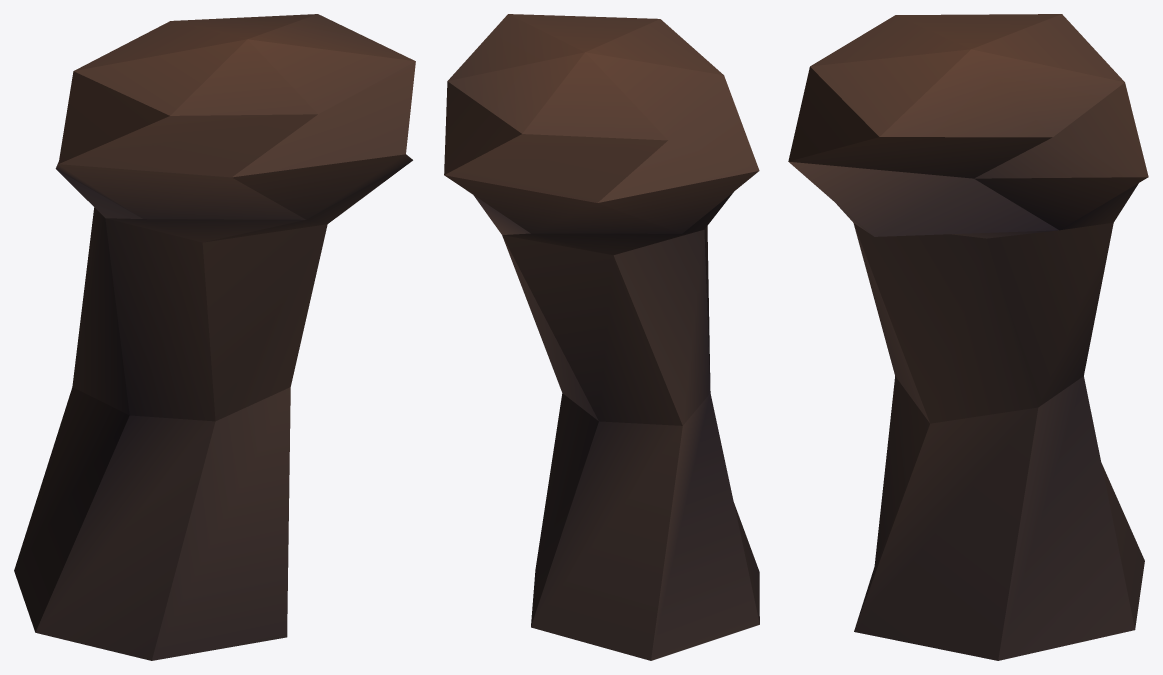
File: eroded.lod2.glb
The picture shows the model from 3 angles, left to right: view 1: azimuth 30°, elevation 25°; view 2: azimuth 150°, elevation 25°; view 3: azimuth 270°, elevation 25°; orthographic projection. The views are drawn at different scales.
Visible parts, largest first — view 1: eroded_s1_lod2; view 2: eroded_s1_lod2; view 3: eroded_s1_lod2.
Part boxes in pixels (left/top/right/bottom): eroded_s1_lod2: left=14, top=14, right=415, bottom=660; eroded_s1_lod2: left=444, top=14, right=759, bottom=660; eroded_s1_lod2: left=788, top=14, right=1148, bottom=660.
Bounding box in the file's own units: 1.96 × 3.2 × 1.77.
